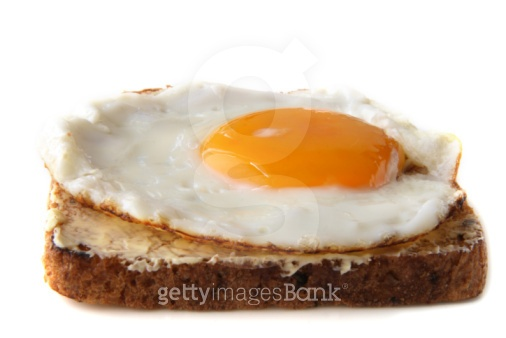fried egg: (70, 83, 459, 227)
slice of bread: (50, 226, 477, 301)
